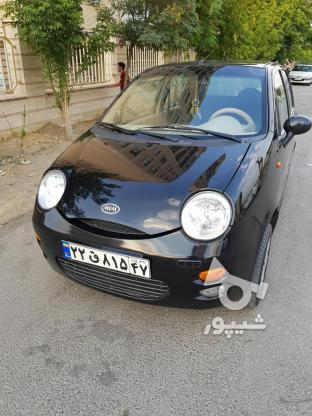car: (61, 239, 152, 280)
